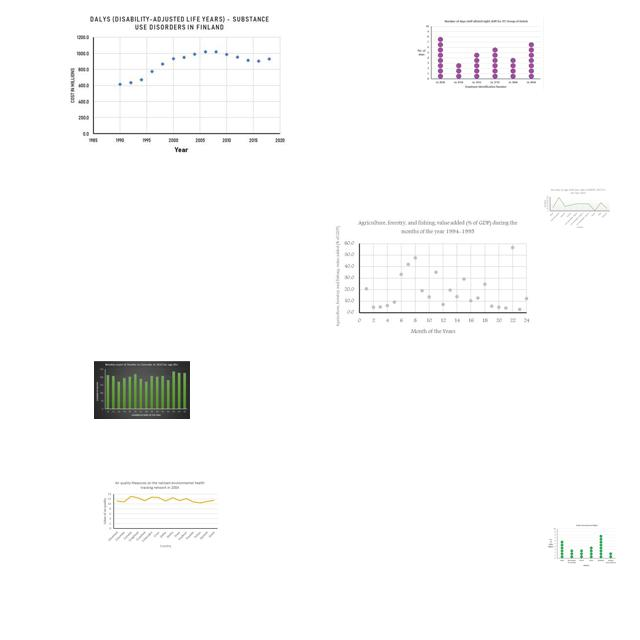Graph: (66, 12, 288, 156), (330, 215, 532, 339), (414, 18, 544, 90), (100, 479, 220, 550), (94, 361, 190, 419), (543, 187, 611, 230), (548, 524, 616, 567)
